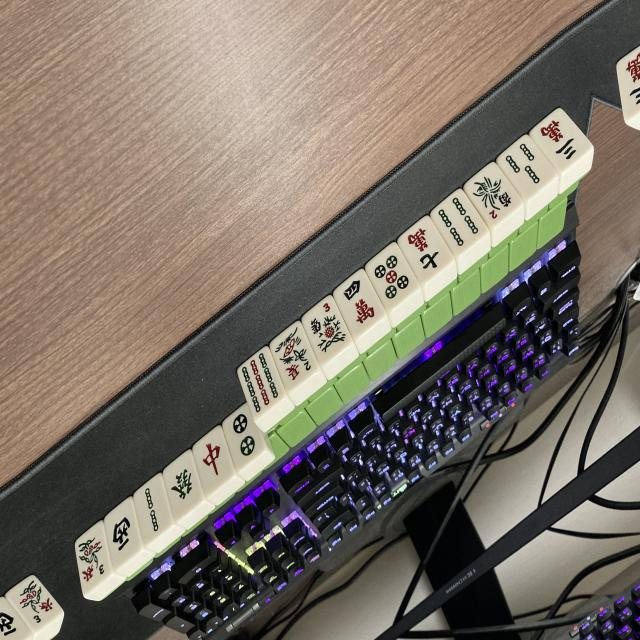2B: (128, 477, 178, 542)
2D: (219, 405, 270, 471)
2F: (464, 163, 523, 227)
2S: (265, 322, 322, 390)
3B: (498, 136, 558, 201)
3C: (530, 108, 592, 175), (615, 44, 640, 121)
3F: (298, 298, 355, 362)
3S: (8, 573, 63, 631), (72, 526, 118, 591)
4B: (429, 188, 489, 254)
4C: (331, 269, 388, 337)
5D: (364, 244, 422, 311)
7C: (396, 218, 454, 283)
9B: (233, 349, 288, 420)
GD: (158, 452, 209, 518)
RD: (189, 428, 239, 494)
WW: (98, 502, 146, 568), (0, 598, 32, 640)
